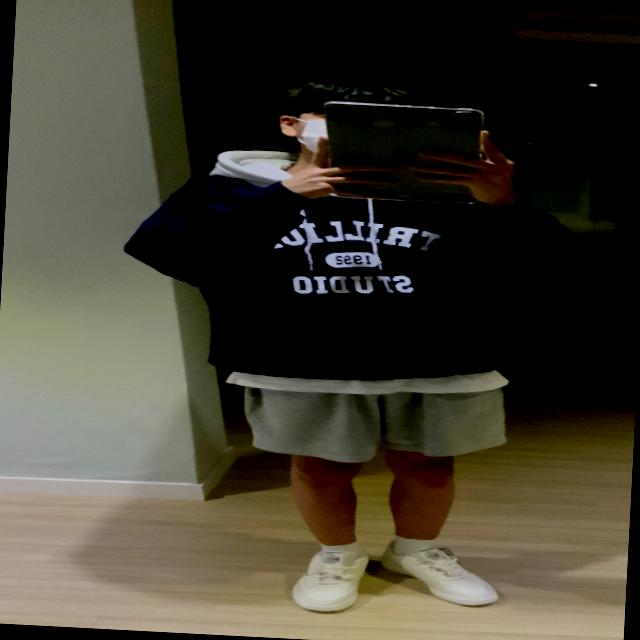hoodies: (114, 141, 581, 397)
shortpants: (236, 364, 508, 472)
